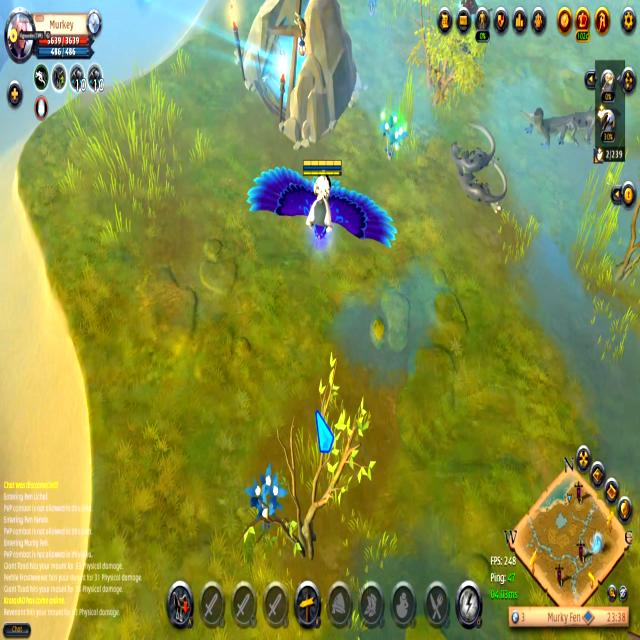hide: (247, 462, 285, 531), (380, 105, 411, 164)
ore: (522, 101, 628, 148)
red: (241, 152, 397, 258)
